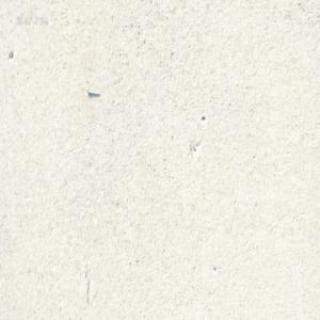Nailtrack_idkeyframe: (86, 88, 100, 96)
